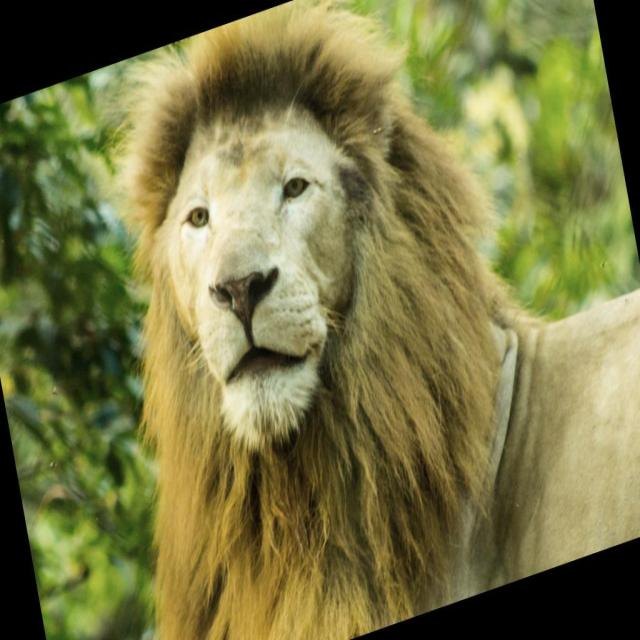Lion: (45, 0, 639, 639)
